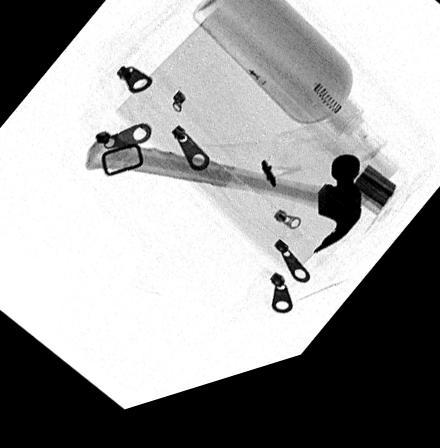Hammer: (86, 144, 363, 271)
